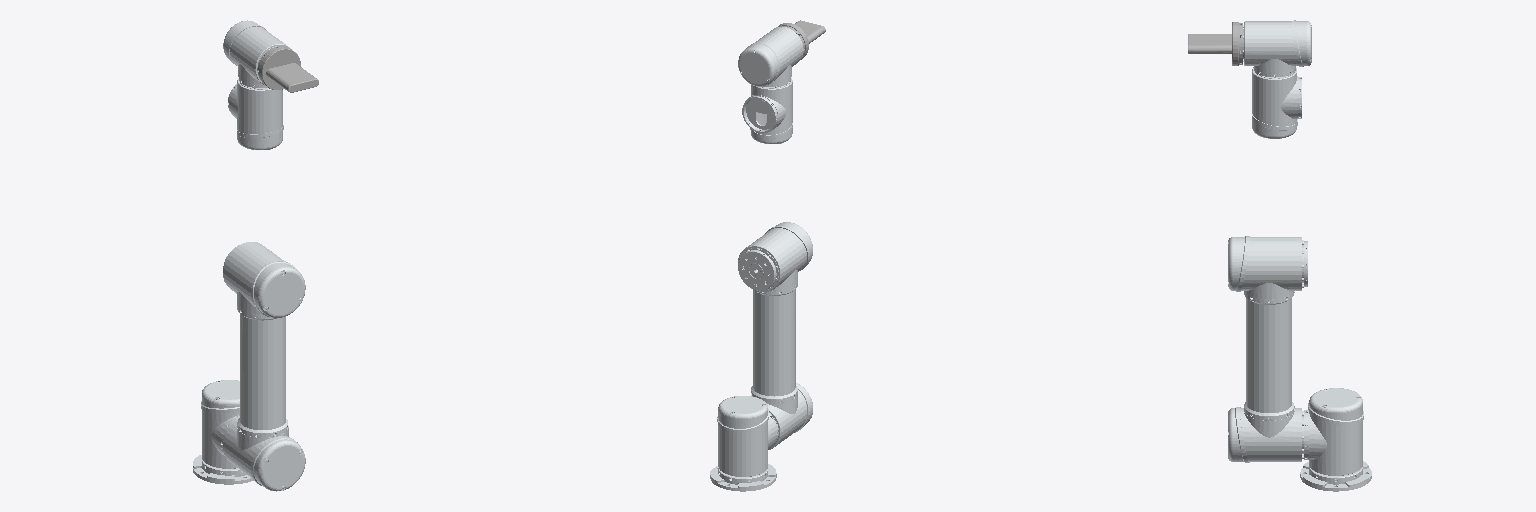
robot.urdf — GSC_with_load:
<?xml version="1.0" encoding="utf-8"?>
<!-- This URDF was automatically created by SolidWorks to URDF Exporter! Originally created by [author] ([email redacted]) 
     Commit Version: 1.5.1-0-g916b5db  Build Version: 1.5.7152.31018
     For more information, please see http://wiki.ros.org/sw_urdf_exporter -->
<robot
  name="GSC_with_load">
  <link
    name="base_link">
    <inertial>
      <origin
        xyz="-2.61177968836726E-10 1.10836536789464E-09 0.00842758262058745"
        rpy="0 0 0" />
      <mass
        value="0.582285408462786" />
      <inertia
        ixx="0.00114248548303506"
        ixy="1.77102209826141E-11"
        ixz="-1.16651932494418E-11"
        iyy="0.0011424854745287"
        iyz="-2.03737865800795E-11"
        izz="0.00224223516153538" />
    </inertial>
    <visual>
      <origin
        xyz="0 0 0"
        rpy="0 0 0" />
      <geometry>
        <mesh
          filename="package://GSC_with_load/meshes/base_link.STL" />
      </geometry>
      <material
        name="">
        <color
          rgba="0.898039215686275 0.917647058823529 0.929411764705882 1" />
      </material>
    </visual>
    <collision>
      <origin
        xyz="0 0 0"
        rpy="0 0 0" />
      <geometry>
        <mesh
          filename="package://GSC_with_load/meshes/base_link.STL" />
      </geometry>
    </collision>
  </link>
  <link
    name="Link_1">
    <inertial>
      <origin
        xyz="1.3384E-06 -0.0049524 -0.024551"
        rpy="0 0 0" />
      <mass
        value="2.9258" />
      <inertia
        ixx="0.0092637"
        ixy="1.871E-07"
        ixz="-2.8798E-08"
        iyy="0.0089789"
        iyz="0.00035176"
        izz="0.007138" />
    </inertial>
    <visual>
      <origin
        xyz="0 0 0"
        rpy="0 0 0" />
      <geometry>
        <mesh
          filename="package://GSC_with_load/meshes/Link_1.STL" />
      </geometry>
      <material
        name="">
        <color
          rgba="0.89804 0.91765 0.92941 1" />
      </material>
    </visual>
    <collision>
      <origin
        xyz="0 0 0"
        rpy="0 0 0" />
      <geometry>
        <mesh
          filename="package://GSC_with_load/meshes/Link_1.STL" />
      </geometry>
    </collision>
  </link>
  <joint
    name="joint_1"
    type="revolute">
    <origin
      xyz="0 0 0.103"
      rpy="0 0 0" />
    <parent
      link="base_link" />
    <child
      link="Link_1" />
    <axis
      xyz="0 0 1" />
    <limit
      lower="-3.14"
      upper="3.14"
      effort="150"
      velocity="3" />
  </joint>
  <link
    name="Link_2">
    <inertial>
      <origin
        xyz="0.213 -4.2745E-13 0.13086"
        rpy="0 0 0" />
      <mass
        value="7.134" />
      <inertia
        ixx="0.021752"
        ixy="1.2551E-06"
        ixz="-5.6646E-14"
        iyy="0.2839"
        iyz="-2.9872E-14"
        izz="0.27902" />
    </inertial>
    <visual>
      <origin
        xyz="0 0 0"
        rpy="0 0 0" />
      <geometry>
        <mesh
          filename="package://GSC_with_load/meshes/Link_2.STL" />
      </geometry>
      <material
        name="">
        <color
          rgba="0.89804 0.91765 0.92941 1" />
      </material>
    </visual>
    <collision>
      <origin
        xyz="0 0 0"
        rpy="0 0 0" />
      <geometry>
        <mesh
          filename="package://GSC_with_load/meshes/Link_2.STL" />
      </geometry>
    </collision>
  </link>
  <joint
    name="joint_2"
    type="revolute">
    <origin
      xyz="0 0 0"
      rpy="1.5708 -1.5708 0" />
    <parent
      link="Link_1" />
    <child
      link="Link_2" />
    <axis
      xyz="0 0 1" />
    <limit
      lower="-3.14"
      upper="3.14"
      effort="150"
      velocity="3" />
  </joint>
  <link
    name="Link_3">
    <inertial>
      <origin
        xyz="0.253631832285622 2.65912527732819E-07 0.0130387864746914"
        rpy="0 0 0" />
      <mass
        value="3.55869113103108" />
      <inertia
        ixx="0.00915107720503709"
        ixy="-1.85972510797387E-07"
        ixz="-0.00686410273625125"
        iyy="0.113153687081063"
        iyz="-1.11158515773289E-07"
        izz="0.111073666851628" />
    </inertial>
    <visual>
      <origin
        xyz="0 0 0"
        rpy="0 0 0" />
      <geometry>
        <mesh
          filename="package://GSC_with_load/meshes/Link_3.STL" />
      </geometry>
      <material
        name="">
        <color
          rgba="0.666666666666667 0.666666666666667 0.666666666666667 1" />
      </material>
    </visual>
    <collision>
      <origin
        xyz="0 0 0"
        rpy="0 0 0" />
      <geometry>
        <mesh
          filename="package://GSC_with_load/meshes/Link_3.STL" />
      </geometry>
    </collision>
  </link>
  <joint
    name="joint3"
    type="revolute">
    <origin
      xyz="0.426 0 0"
      rpy="0 0 0" />
    <parent
      link="Link_2" />
    <child
      link="Link_3" />
    <axis
      xyz="0 0 1" />
    <limit
      lower="-3.14"
      upper="3.14"
      effort="150"
      velocity="3" />
  </joint>
  <link
    name="Link_4">
    <inertial>
      <origin
        xyz="-5.45347197881896E-07 -0.0210960934472068 -0.00476083658315146"
        rpy="0 0 0" />
      <mass
        value="1.66877908297273" />
      <inertia
        ixx="0.00441224786972239"
        ixy="-8.87272168551393E-08"
        ixz="6.94225390335798E-08"
        iyy="0.00301441064867338"
        iyz="0.000164042393077159"
        izz="0.00429135267006557" />
    </inertial>
    <visual>
      <origin
        xyz="0 0 0"
        rpy="0 0 0" />
      <geometry>
        <mesh
          filename="package://GSC_with_load/meshes/Link_4.STL" />
      </geometry>
      <material
        name="">
        <color
          rgba="0.898039215686275 0.917647058823529 0.929411764705882 1" />
      </material>
    </visual>
    <collision>
      <origin
        xyz="0 0 0"
        rpy="0 0 0" />
      <geometry>
        <mesh
          filename="package://GSC_with_load/meshes/Link_4.STL" />
      </geometry>
    </collision>
  </link>
  <joint
    name="joint_4"
    type="revolute">
    <origin
      xyz="0.414 0 0.1385"
      rpy="0 0 1.5708" />
    <parent
      link="Link_3" />
    <child
      link="Link_4" />
    <axis
      xyz="0 0 1" />
    <limit
      lower="-3.14"
      upper="3.14"
      effort="50"
      velocity="3" />
  </joint>
  <link
    name="Link_5">
    <inertial>
      <origin
        xyz="6.07171407990862E-07 0.0158826301395855 -0.00530815289706887"
        rpy="0 0 0" />
      <mass
        value="1.49671394342634" />
      <inertia
        ixx="0.00382918583569587"
        ixy="-9.33943322363564E-08"
        ixz="-6.99133568399163E-08"
        iyy="0.00287716928810821"
        iyz="-0.000122622434451678"
        izz="0.0037126389518812" />
    </inertial>
    <visual>
      <origin
        xyz="0 0 0"
        rpy="0 0 0" />
      <geometry>
        <mesh
          filename="package://GSC_with_load/meshes/Link_5.STL" />
      </geometry>
      <material
        name="">
        <color
          rgba="0.898039215686275 0.917647058823529 0.929411764705882 1" />
      </material>
    </visual>
    <collision>
      <origin
        xyz="0 0 0"
        rpy="0 0 0" />
      <geometry>
        <mesh
          filename="package://GSC_with_load/meshes/Link_5.STL" />
      </geometry>
    </collision>
  </link>
  <joint
    name="joint_5"
    type="revolute">
    <origin
      xyz="0 -0.134 0"
      rpy="1.5708 0 0" />
    <parent
      link="Link_4" />
    <child
      link="Link_5" />
    <axis
      xyz="0 0 1" />
    <limit
      lower="-3.14"
      upper="3.14"
      effort="50"
      velocity="3" />
  </joint>
  <link
    name="Link_6">
    <inertial>
      <origin
        xyz="3.0278E-09 -4.0038E-09 0.046188"
        rpy="0 0 0" />
      <mass
        value="2.1898" />
      <inertia
        ixx="0.0036583"
        ixy="-4.343E-13"
        ixz="2.3993E-10"
        iyy="0.0041561"
        iyz="-3.3642E-10"
        izz="0.0019415" />
    </inertial>
    <visual>
      <origin
        xyz="0 0 0"
        rpy="0 0 0" />
      <geometry>
        <mesh
          filename="package://GSC_with_load/meshes/Link_6.STL" />
      </geometry>
      <material
        name="">
        <color
          rgba="0.75294 0.75294 0.75294 1" />
      </material>
    </visual>
    <collision>
      <origin
        xyz="0 0 0"
        rpy="0 0 0" />
      <geometry>
        <mesh
          filename="package://GSC_with_load/meshes/Link_6.STL" />
      </geometry>
    </collision>
  </link>
  <joint
    name="joint_6"
    type="revolute">
    <origin
      xyz="0 0.07 0"
      rpy="-1.5708 0 0" />
    <parent
      link="Link_5" />
    <child
      link="Link_6" />
    <axis
      xyz="0 0 1" />
    <limit
      lower="-3.14"
      upper="3.14"
      effort="50"
      velocity="3" />
  </joint>
</robot>

--- Facts derived from the render (not from the file) ---
3 views of the same robot in one strip: view 1: azimuth 30°, elevation 25°; view 2: azimuth 150°, elevation 25°; view 3: azimuth 270°, elevation 25° (orthographic).
Model GSC_with_load with 7 links and 6 joints (6 revolute), rooted at base_link, posed all joints at 0.
Links seen in each view (by area): view 1: Link_2, Link_4, Link_1, Link_5, Link_6, base_link; view 2: Link_2, Link_1, Link_5, Link_4, base_link, Link_6; view 3: Link_2, Link_1, Link_5, Link_4, Link_6, base_link.
Boxes of the visible links, <box> form: Link_2: <box>223,242,305,491</box>; Link_4: <box>228,78,283,149</box>; Link_1: <box>201,380,239,471</box>; Link_5: <box>223,20,290,87</box>; Link_6: <box>258,46,318,92</box>; base_link: <box>193,455,253,484</box>; Link_2: <box>738,222,812,449</box>; Link_1: <box>717,396,778,479</box>; Link_5: <box>738,27,803,86</box>; Link_4: <box>742,78,792,143</box>; base_link: <box>710,464,776,491</box>; Link_6: <box>778,20,825,59</box>; Link_2: <box>1228,236,1307,462</box>; Link_1: <box>1304,388,1363,475</box>; Link_5: <box>1243,20,1311,77</box>; Link_4: <box>1252,67,1301,138</box>; Link_6: <box>1188,22,1243,65</box>; base_link: <box>1300,461,1371,491</box>.
Size in the robot's own frame: 0.1617 by 0.4154 by 1.13 metres.
Meshes: 7 distinct files referenced, 6 mesh visuals loaded (6 binary STL); not drawn: 1 (reference not matched to a file when rendering).